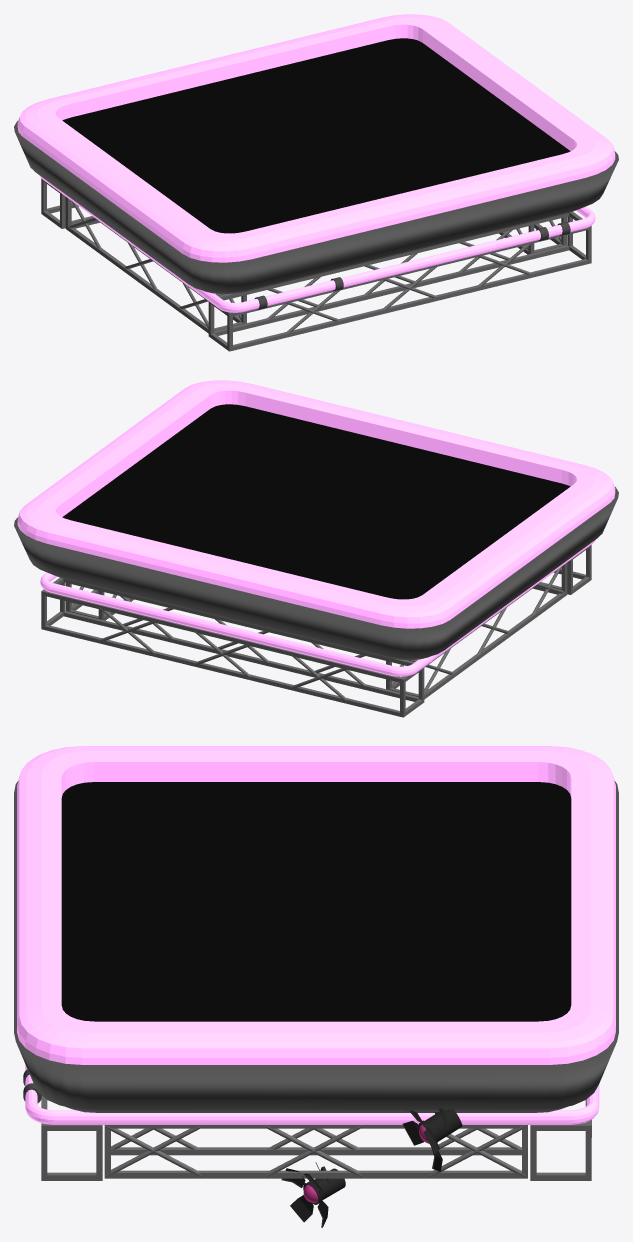
Rendered from Subflatform_Left_Down.fbx.
The picture shows the model from 3 angles, top to bottom: view 1: azimuth 30°, elevation 25°; view 2: azimuth 150°, elevation 25°; view 3: azimuth 270°, elevation 25°; orthographic projection. The views are drawn at different scales.
Visible parts, largest first — view 1: Cube.010, Cube.008, Cylinder.012, Torus.002, Cylinder.014, Cylinder.013, Cube.011; view 2: Cube.010, Cube.008, Cylinder.013, Torus.002, Cylinder.014, Cylinder.012; view 3: Cube.010, Cube.008, Cube.011, Torus.002, Light1.008, Light1.009, Cylinder.012, Cylinder.013.
Boxes of the visible parts, x1,y1,x2,y2 form: Cube.010: (17,14,615,262); Cube.008: (14,121,618,294); Cylinder.012: (208,211,591,351); Torus.002: (40,176,595,312); Cylinder.014: (65,197,246,333); Cylinder.013: (41,178,94,228); Cube.011: (499,217,566,254); Cube.010: (17,380,615,628); Cube.008: (14,487,618,660); Cylinder.013: (41,577,424,717); Torus.002: (40,539,595,676); Cylinder.014: (386,563,567,699); Cylinder.012: (539,545,591,594); Cube.010: (17,746,615,1064); Cube.008: (14,781,618,1112); Cube.011: (104,1125,527,1178); Torus.002: (25,1064,599,1124); Light1.008: (402,1108,462,1171); Light1.009: (281,1162,345,1227); Cylinder.012: (41,1095,102,1180); Cylinder.013: (530,1099,591,1180).
Bounding box in the file's own units: 2463 × 748 × 1979.
